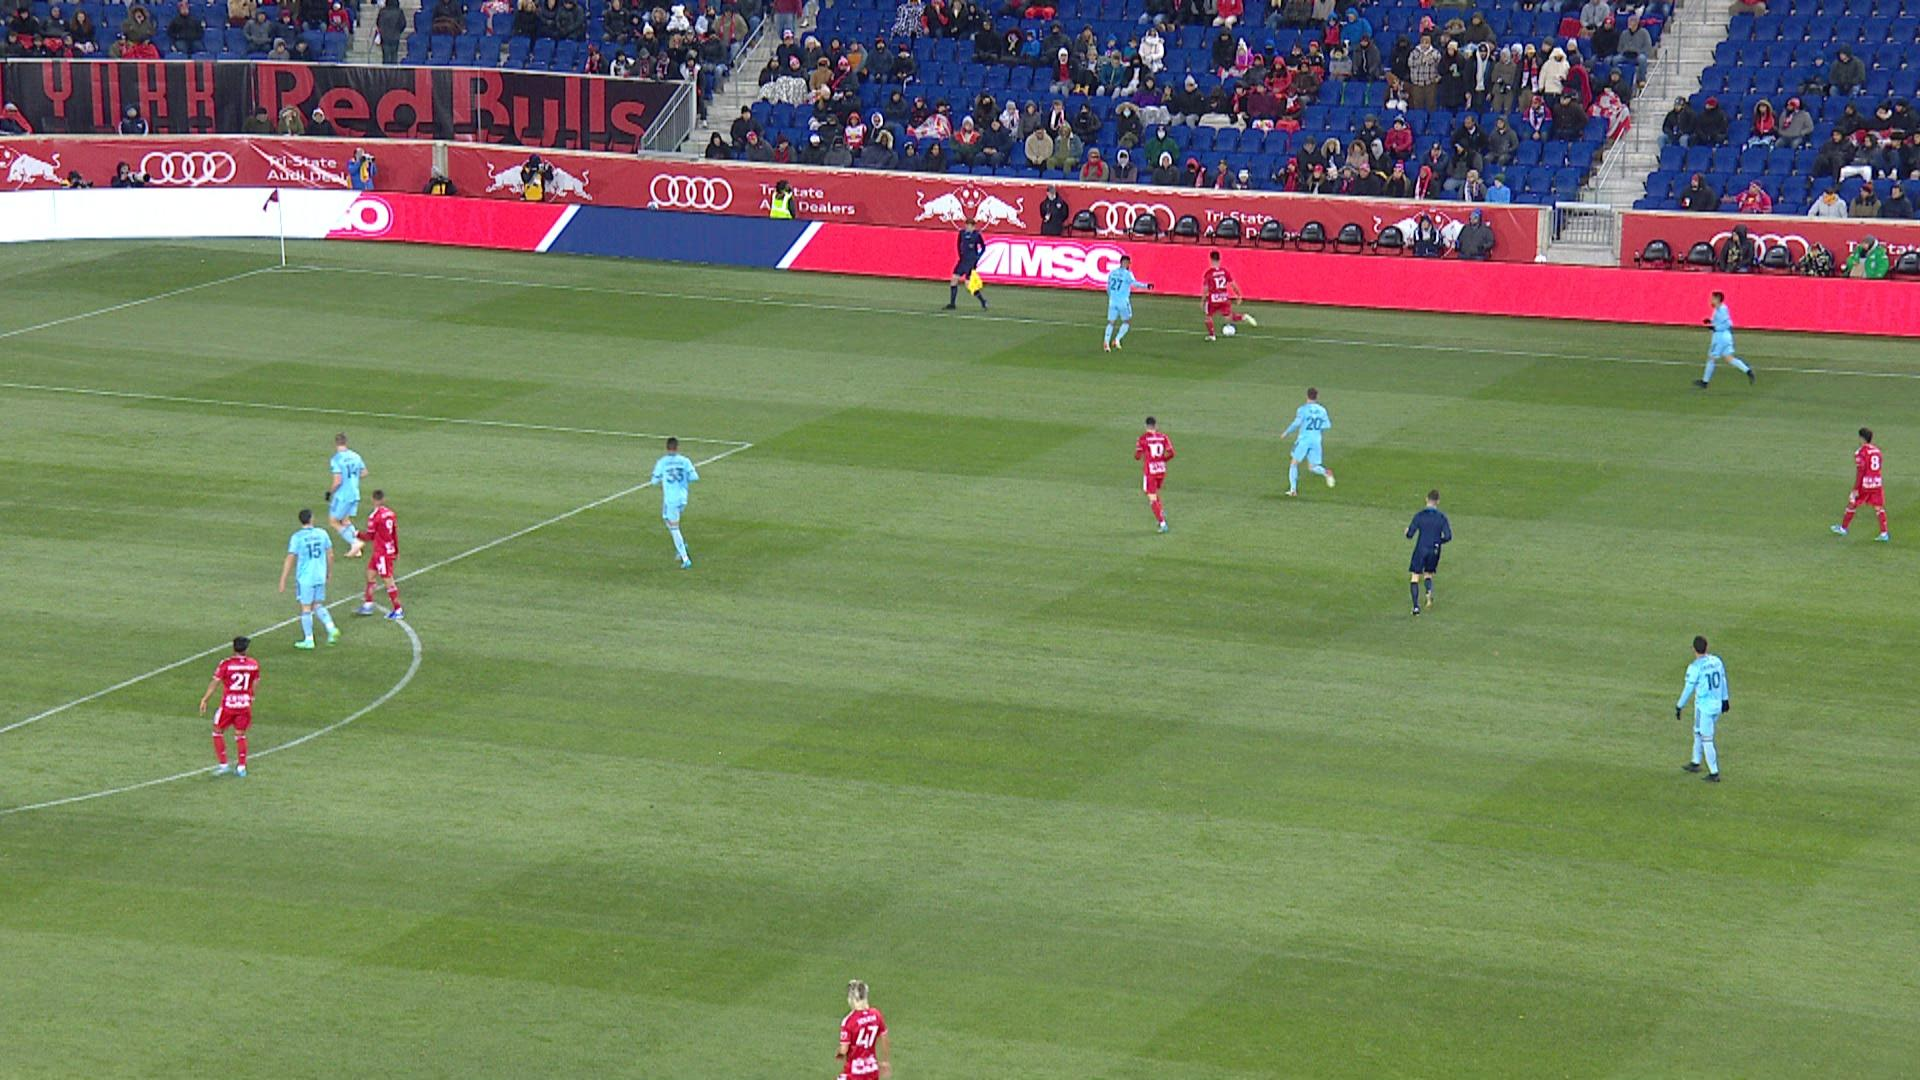football: (1221, 323, 1237, 336)
